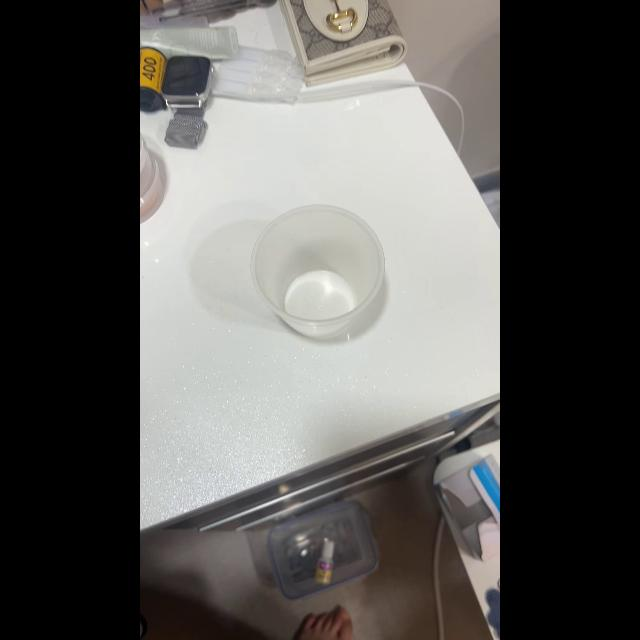clean: (250, 202, 386, 340)
